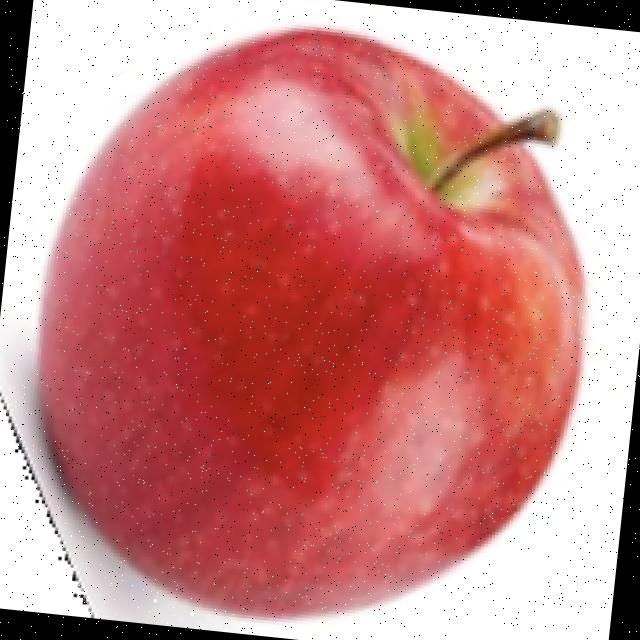apple: (0, 18, 595, 632)
